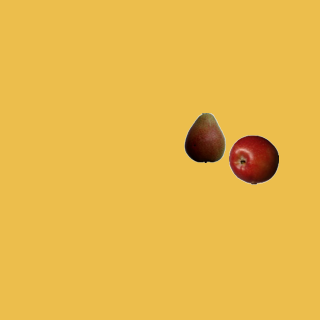Apple Braeburn: (228, 134, 278, 184)
Pear Forelle: (179, 112, 229, 162)
